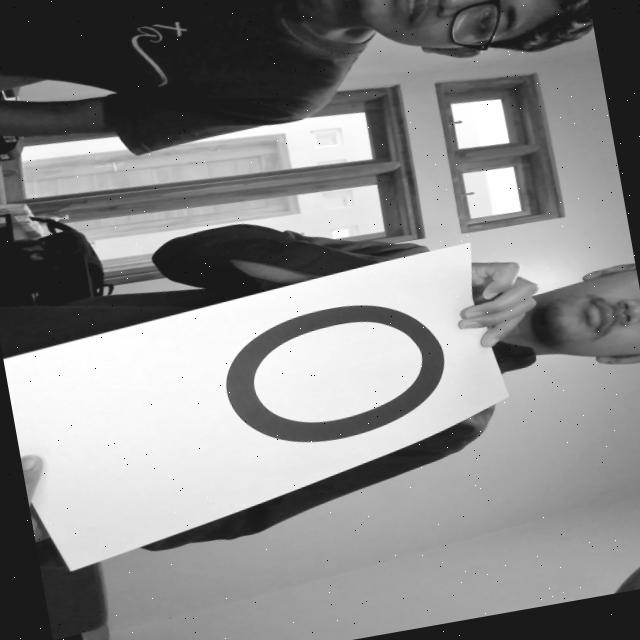o: (182, 280, 472, 490)
